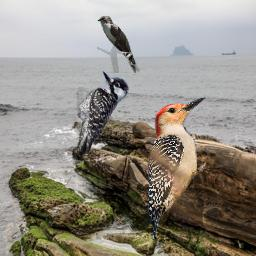Cuckoo: (97, 16, 140, 73)
Woodpecker: (148, 96, 206, 240), (61, 68, 129, 154)
